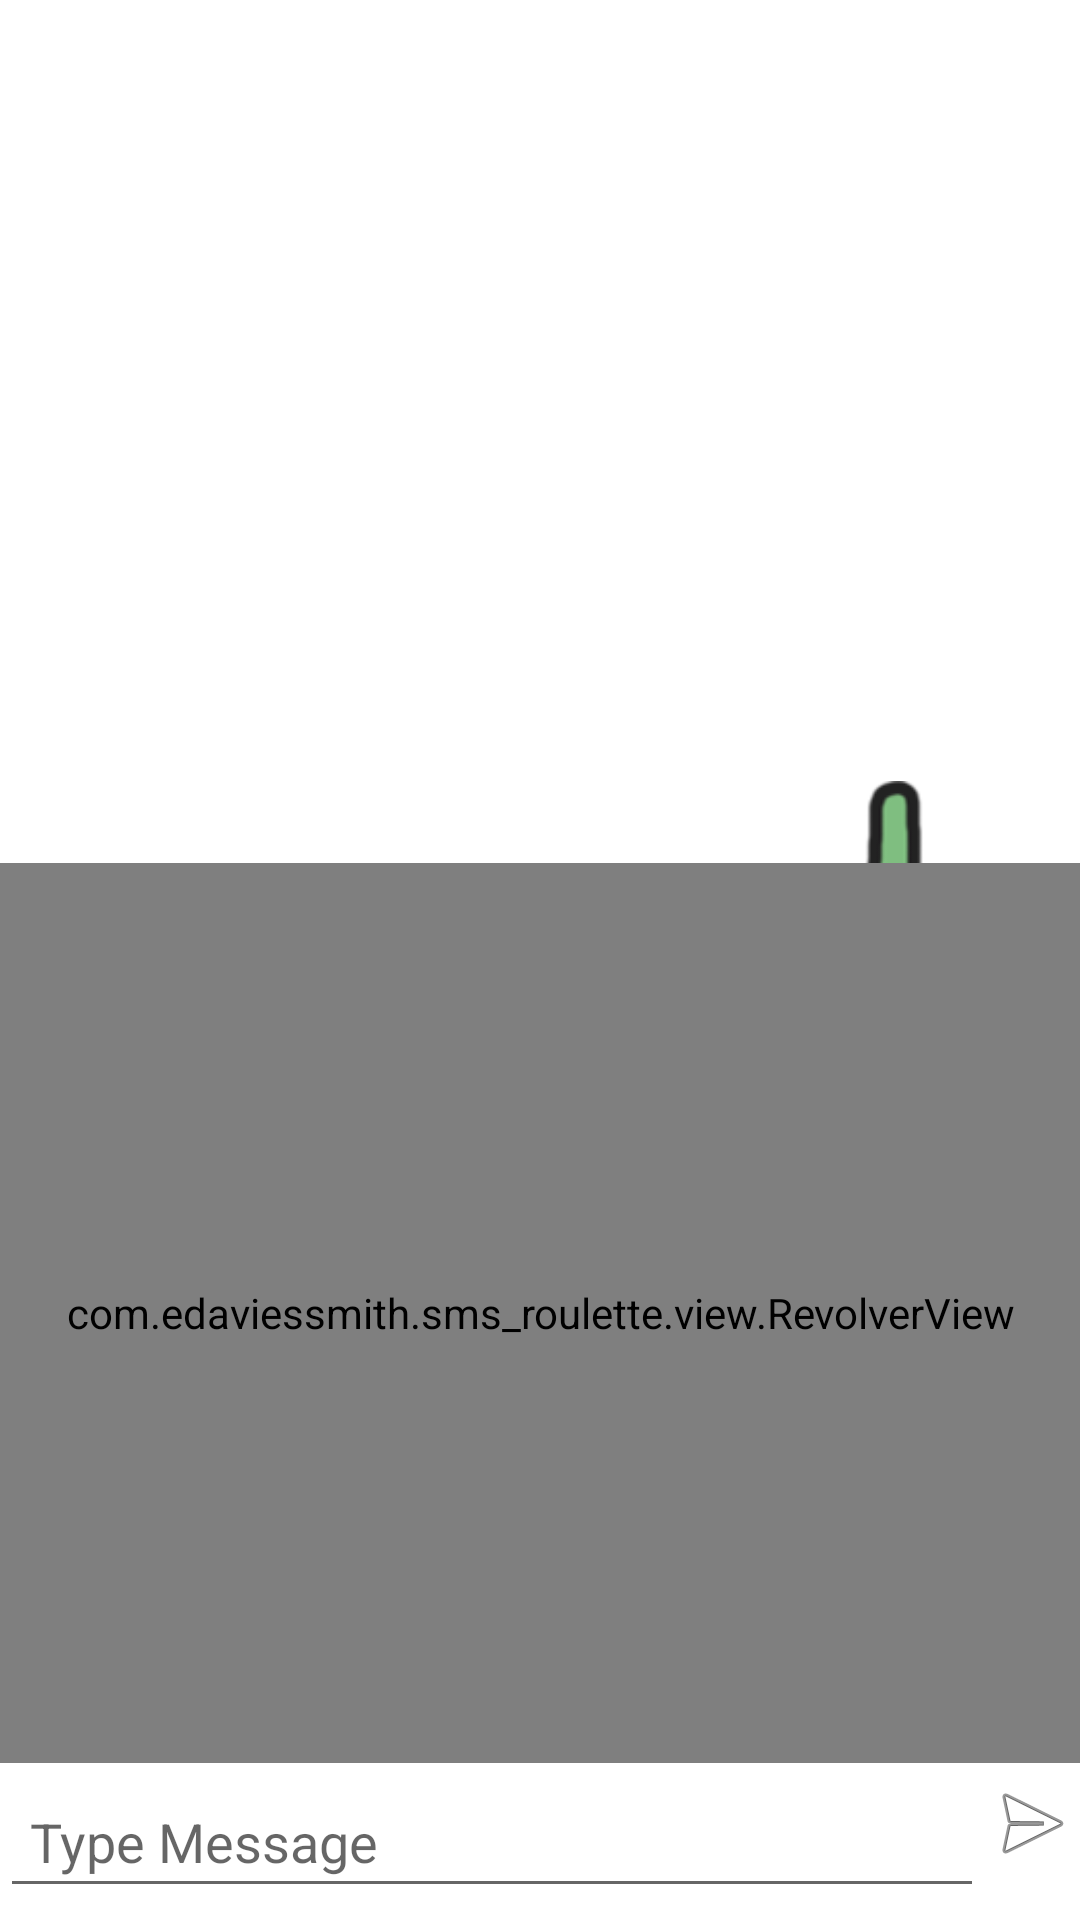

Screen size 1080*1920. Icon name, then its box in pixels as [x1=x1, y1=y1, x2=x2, y2=y2]:
send: [x1=1002, y1=1793, x2=1064, y2=1854]
